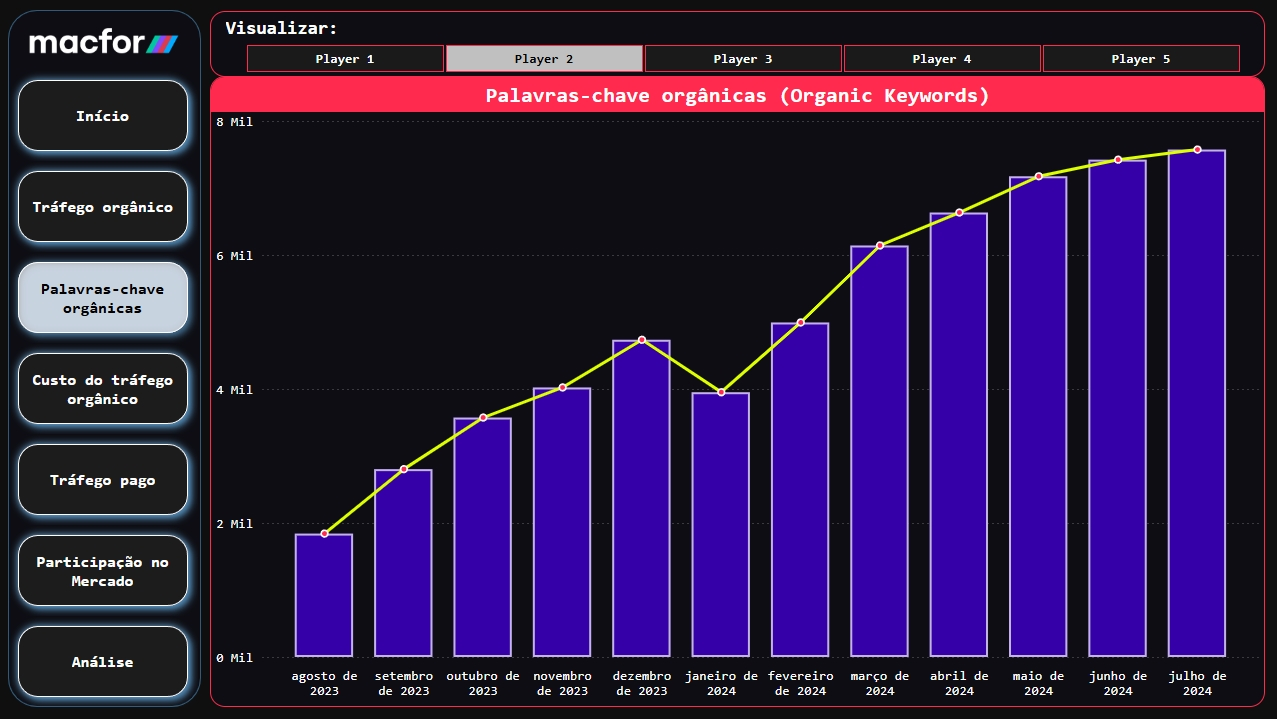

The page's visual inventory and layout, read from the dashboard file:
{"tool":"powerbi","page":{"name":"Palavras-chave orgânicas","canvas":[1280,720],"ordinal":2},"visuals":[{"type":"lineClusteredColumnComboChart","title":"Palavras-chave orgânicas (Organic Keywords)","fields":{"Category":["Organic keywords (Organic keywords).Data"],"Series":["Organic keywords (Organic keywords).Player"],"Y":["Sum(Organic keywords (Organic keywords).Valor)"],"Y2":["Sum(Organic keywords (Organic keywords).Valor)"]},"box":[211,77,1055,631],"z":0},{"type":"slicer","title":"Visualizar:","fields":{"Values":["Organic keywords (Organic keywords).Player"]},"box":[211,12,1055,66],"z":1000},{"type":"shape","box":[9,11,193,697],"z":2000},{"type":"pageNavigator","box":[9,71,190,637],"z":3000},{"type":"image","box":[12,19,187,53],"z":4000}]}

Visuals, with their boxes in screenshot pixels (x1, y1, x2, y2), scaled from the page's 1280x720 canvas onto the 1277x719 screenshot:
"Palavras-chave orgânicas (Organic Keywords)" lineClusteredColumnComboChart: [x1=211, y1=77, x2=1263, y2=707]
"Visualizar:" slicer: [x1=211, y1=12, x2=1263, y2=78]
shape: [x1=9, y1=11, x2=202, y2=707]
pageNavigator: [x1=9, y1=71, x2=199, y2=707]
image: [x1=12, y1=19, x2=199, y2=72]
